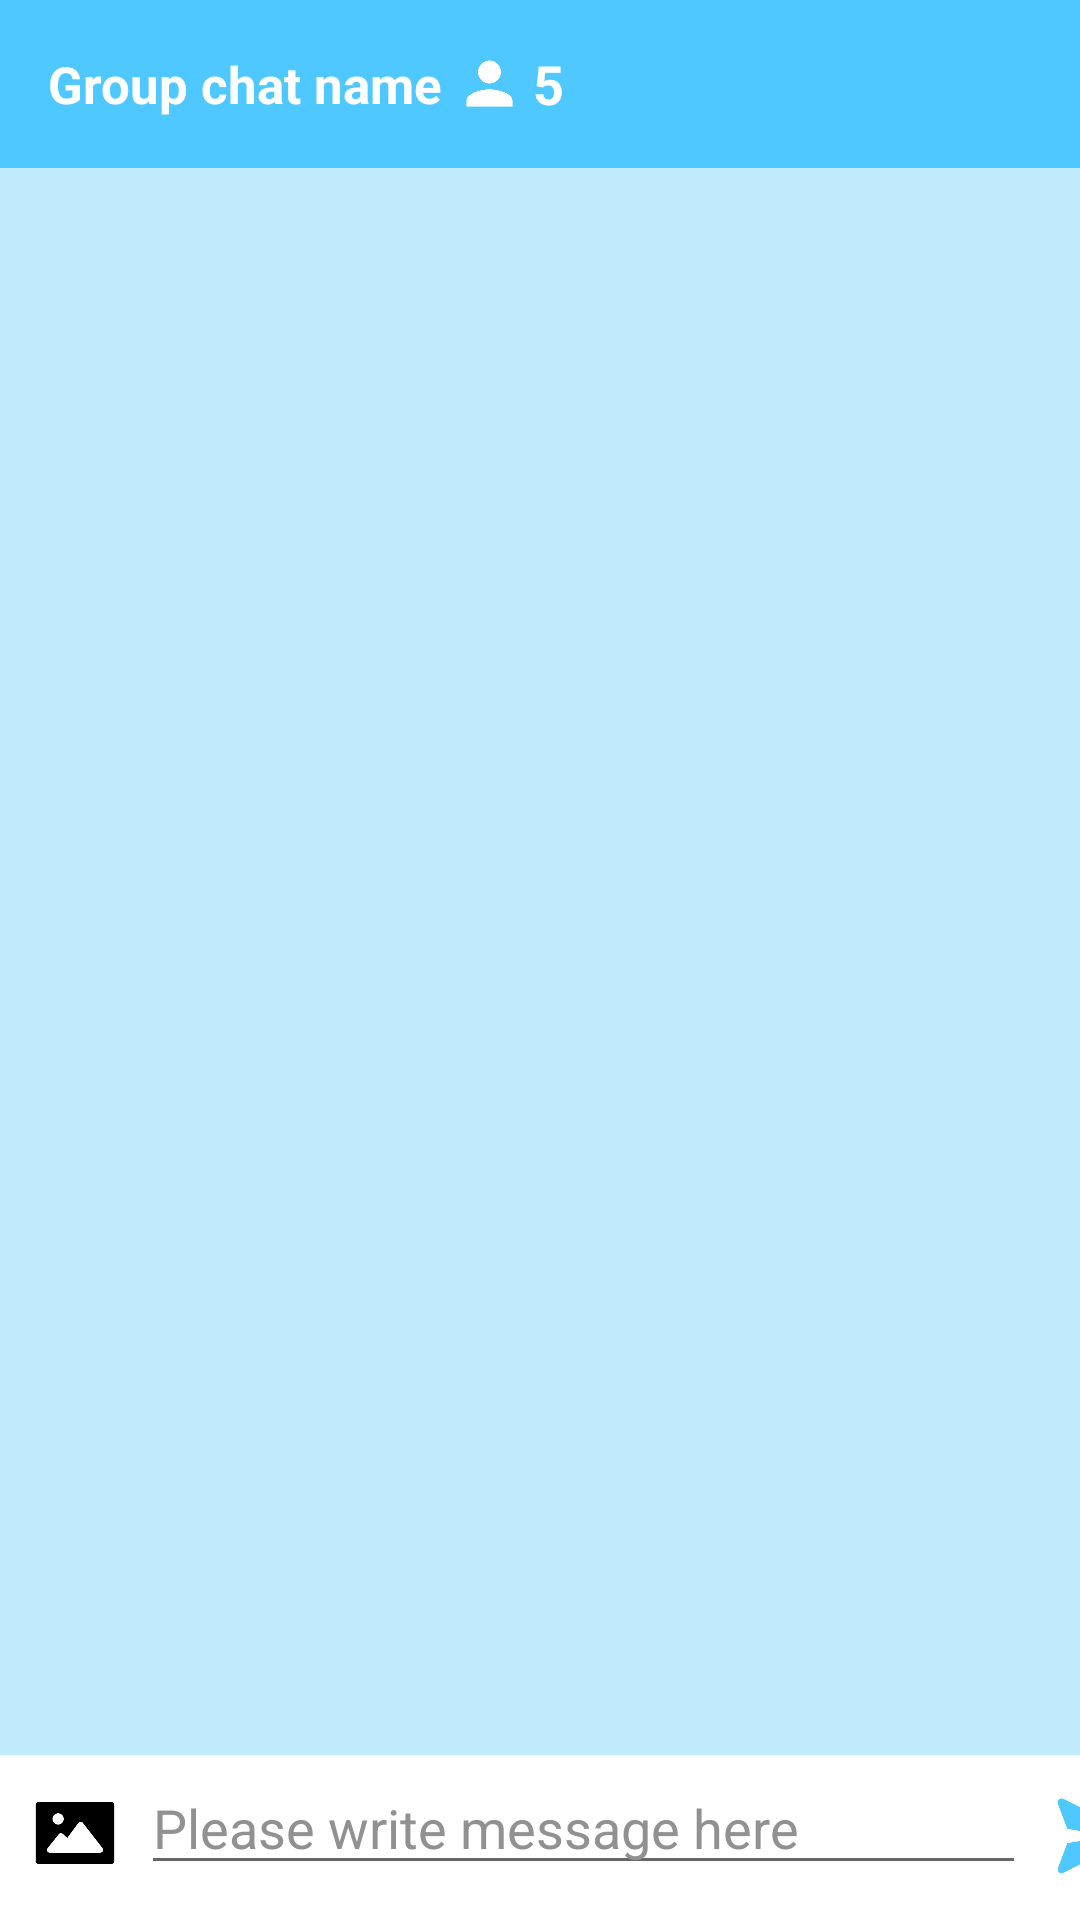

Icons on this 1080×1920 Android screen, each with the point to tap as [x,y]:
chat people: [489,83]
